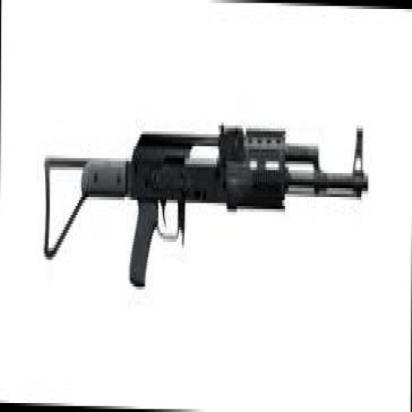Gun: (44, 106, 367, 289)
